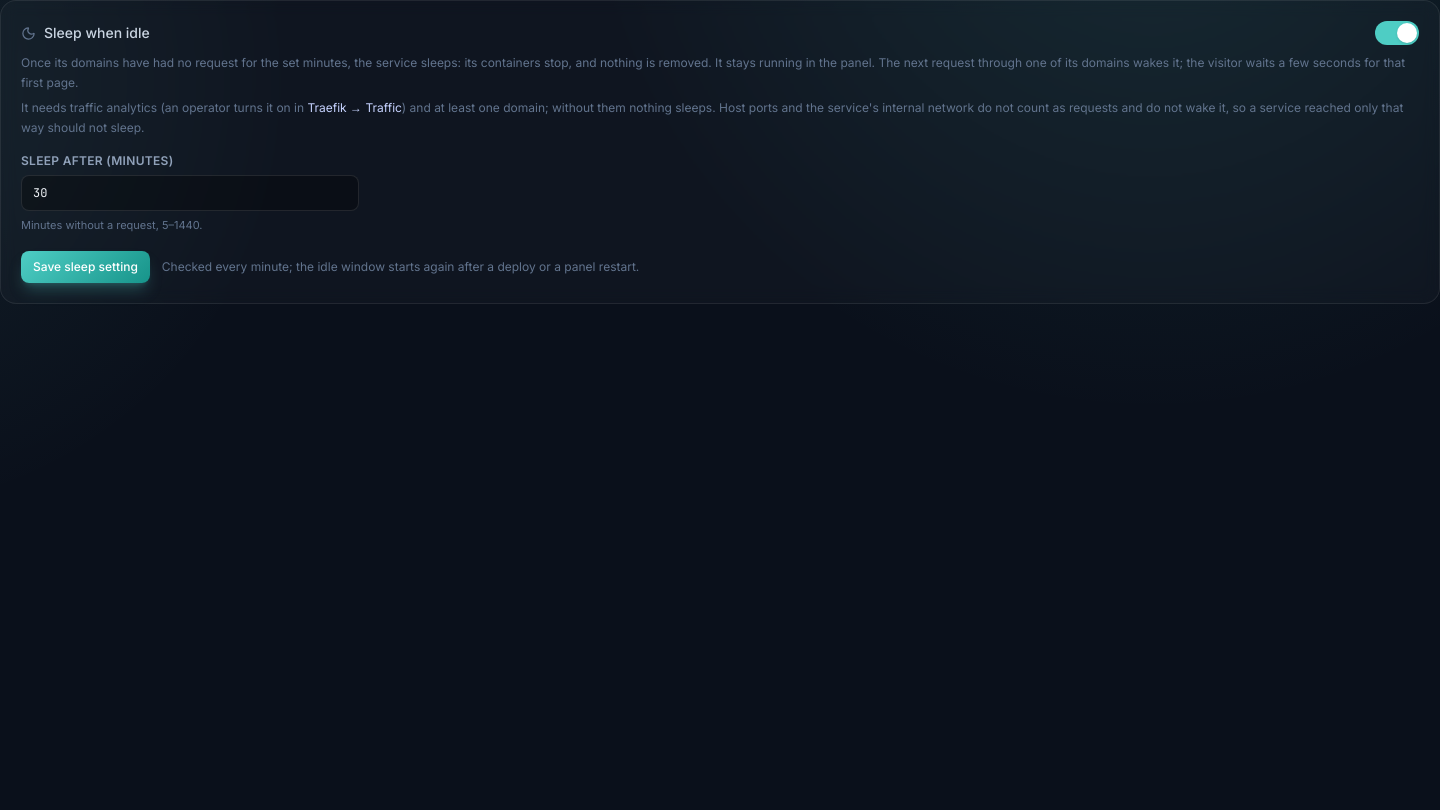
Test: SleepCard › shows the server's message when the save is refused, and a fallback without one
Click the button "Save sleep setting" at point(85, 267), box [21,251,150,283]
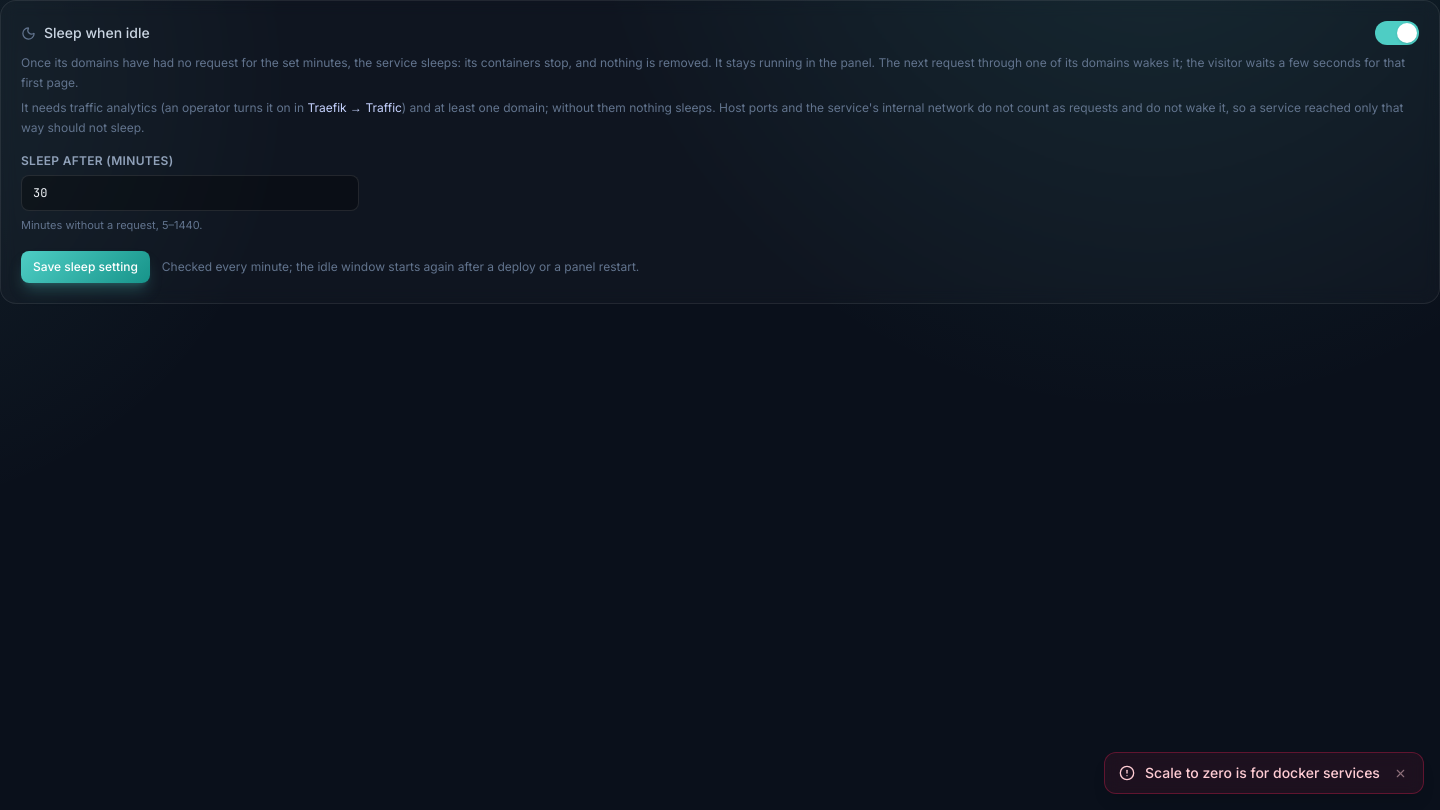
Result: the text "Scale to zero is for docker services" is shown at [1145,763,1382,783]
Click the button "Save sleep setting" at point(85, 267), box [21,251,150,283]
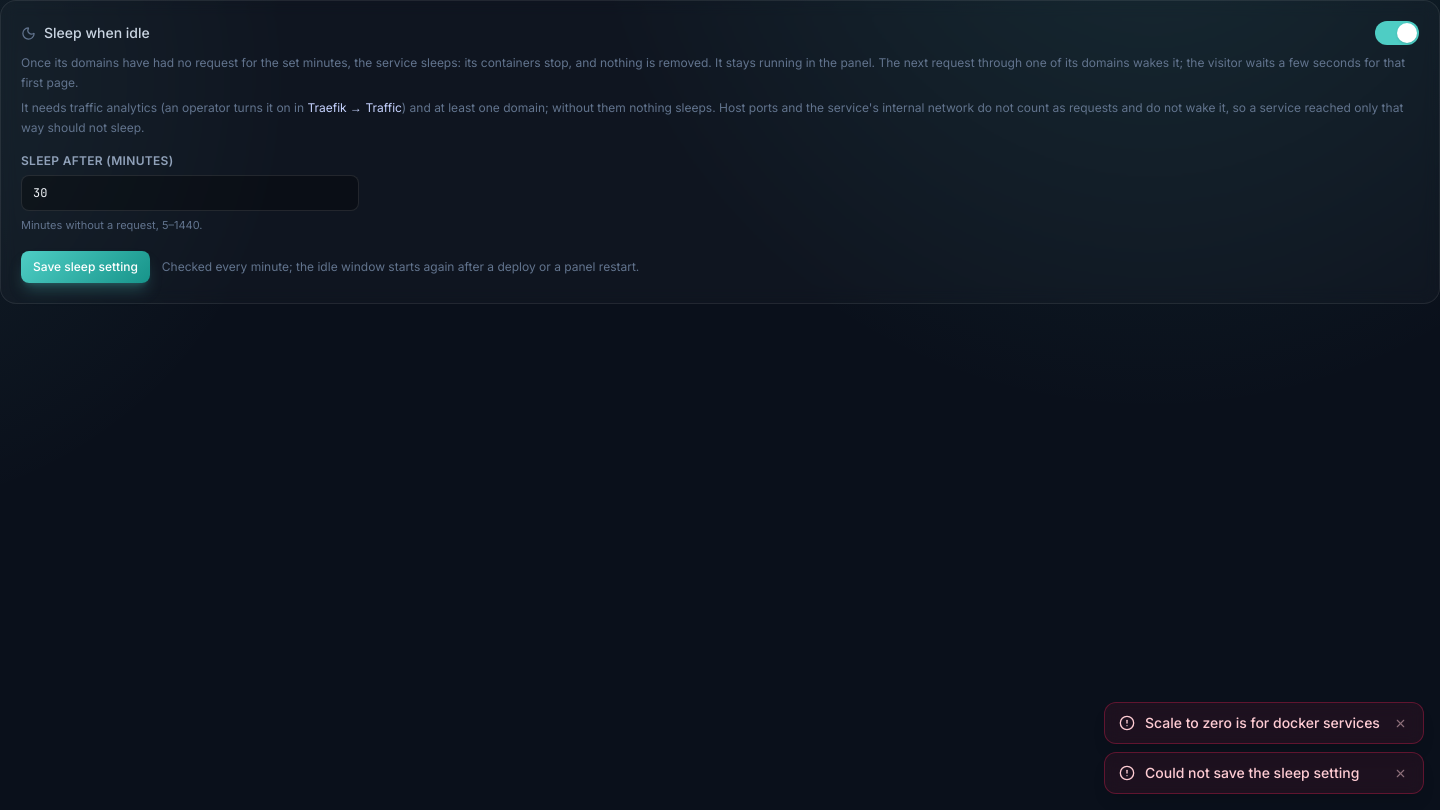
Result: the text "Could not save the sleep setting" is shown at [1145,763,1382,783]
